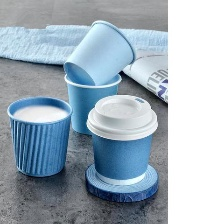paper_cup: (82, 91, 160, 189), (2, 91, 75, 180), (59, 15, 140, 89), (61, 66, 123, 138)
